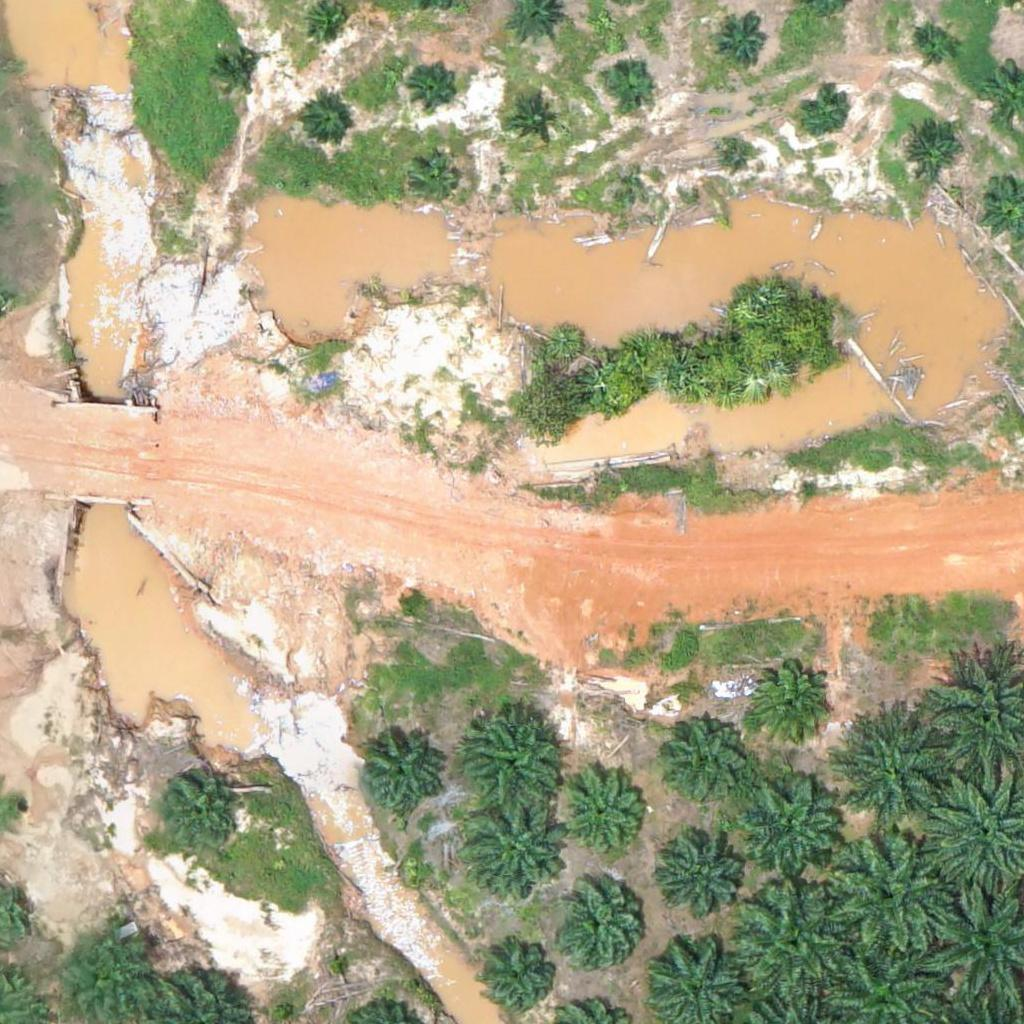Kelapa_Sawit: (836, 704, 961, 830), (831, 829, 956, 955), (733, 878, 858, 1004), (743, 776, 843, 877), (466, 800, 566, 901), (462, 707, 562, 808), (665, 717, 753, 805), (558, 772, 646, 860), (555, 885, 643, 973), (357, 732, 445, 820), (156, 773, 243, 861), (475, 932, 562, 1020), (745, 660, 832, 748), (659, 836, 746, 924), (898, 118, 960, 181), (602, 54, 652, 105), (409, 58, 459, 109), (509, 97, 559, 148), (717, 20, 767, 70), (798, 87, 848, 137), (300, 98, 350, 148), (909, 24, 959, 74), (411, 159, 461, 209), (212, 50, 262, 100), (723, 140, 748, 165), (628, 174, 653, 199)
